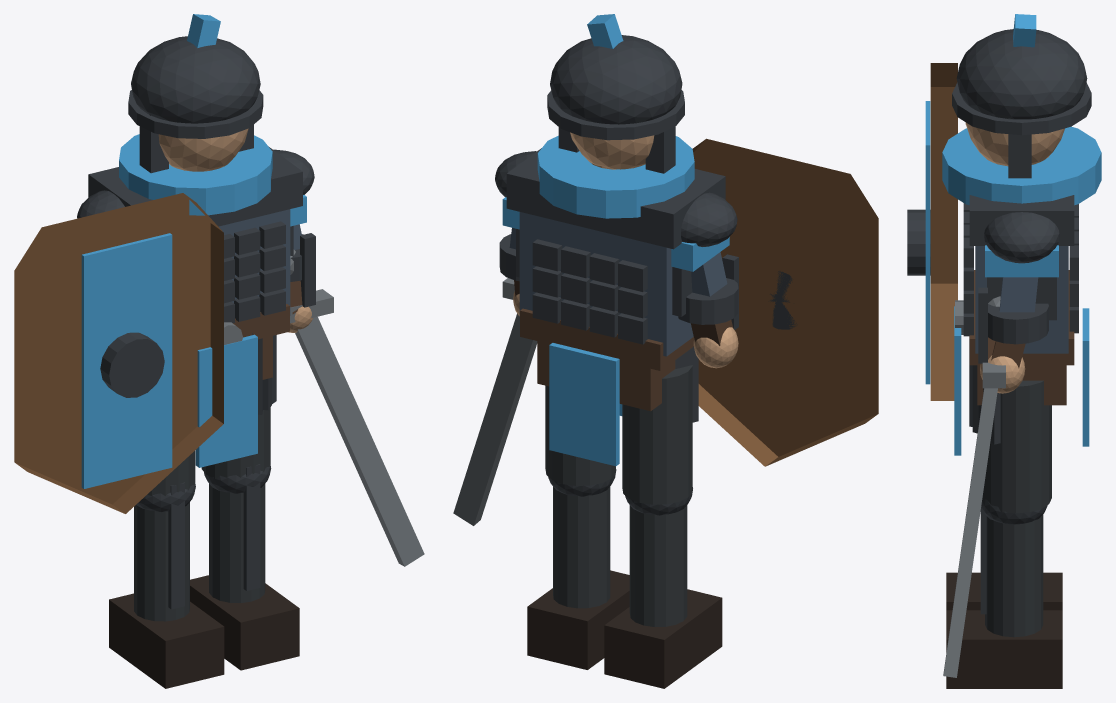
File: CHR_Infantry_A_v001_LOD0.glb
The picture shows the model from 3 angles, left to right: view 1: azimuth 30°, elevation 25°; view 2: azimuth 150°, elevation 25°; view 3: azimuth 270°, elevation 25°; orthographic projection. The views are drawn at different scales.
Visible parts, largest first — view 1: Shield_Base, Team_ShieldPanel, HelmetDome, Boot_L, Sword_Blade, Team_Scarf, Team_Tabard_F, Boot_R, Shin_R, Shin_L, ChestPlate, Shield_Boss (+13 smaller); view 2: Shield_Base, HelmetDome, Thigh_L, Team_Scarf, Team_Tabard_B, Boot_L, Torso, Shin_L, Shin_R, ChestPlate, Sword_Blade, Boot_R (+28 smaller); view 3: HelmetDome, Shield_Base, Team_Scarf, Thigh_R, Boot_R, Shin_R, Sword_Blade, ShoulderPad_R, ChestPlate, HelmetBrim, Torso, ElbowGuard_R (+23 smaller).
Boxes of the visible parts, <box> form: Shield_Base: <box>14,193,223,513</box>; Team_ShieldPanel: <box>81,233,172,488</box>; HelmetDome: <box>131,36,260,123</box>; Boot_L: <box>109,593,224,688</box>; Sword_Blade: <box>295,317,424,566</box>; Team_Scarf: <box>119,134,272,215</box>; Team_Tabard_F: <box>195,334,257,467</box>; Boot_R: <box>190,575,299,670</box>; Shin_R: <box>209,484,265,602</box>; Shin_L: <box>134,502,189,621</box>; ChestPlate: <box>88,146,302,226</box>; Shield_Boss: <box>100,332,164,397</box>; Shield_Base: <box>692,138,878,466</box>; HelmetDome: <box>550,35,682,124</box>; Thigh_L: <box>622,365,692,504</box>; Team_Scarf: <box>537,135,694,218</box>; Team_Tabard_B: <box>549,343,619,466</box>; Boot_L: <box>604,589,722,688</box>; Torso: <box>519,212,693,356</box>; Shin_L: <box>629,505,687,626</box>; Shin_R: <box>553,486,610,608</box>; ChestPlate: <box>506,148,725,249</box>; Sword_Blade: <box>453,313,537,525</box>; Boot_R: <box>527,570,629,669</box>; HelmetDome: <box>956,29,1087,119</box>; Shield_Base: <box>930,63,957,400</box>; Team_Scarf: <box>942,126,1101,205</box>; Thigh_R: <box>982,380,1051,513</box>; Boot_R: <box>946,610,1062,688</box>; Shin_R: <box>985,514,1043,637</box>; Sword_Blade: <box>943,388,997,677</box>; ShoulderPad_R: <box>984,212,1059,263</box>; ChestPlate: <box>969,195,1074,245</box>; HelmetBrim: <box>952,82,1091,135</box>; Torso: <box>975,246,1068,353</box>; ElbowGuard_R: <box>988,303,1048,344</box>.
Size of the model in its own units: 1.23 by 1.83 by 0.5.
Materials: 2 (2 with a texture image).
